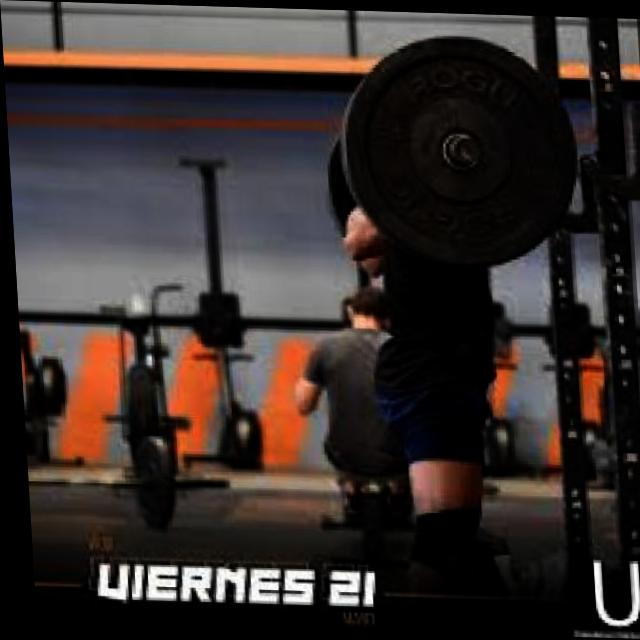barbell: (334, 24, 587, 276)
